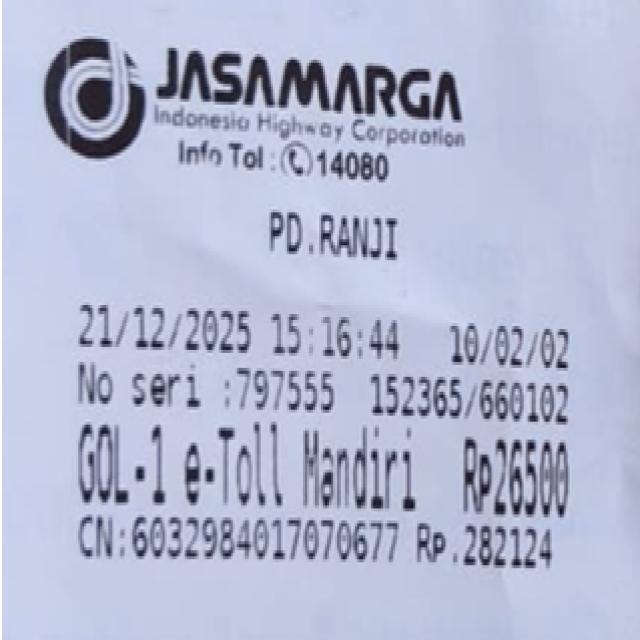date: (77, 294, 410, 360)
store: (158, 41, 471, 158)
total: (458, 428, 572, 524)
